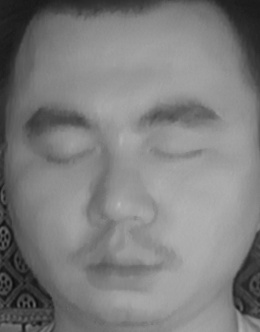blink: (38, 135, 99, 178), (147, 134, 204, 170)
mouth: (76, 235, 169, 297)
